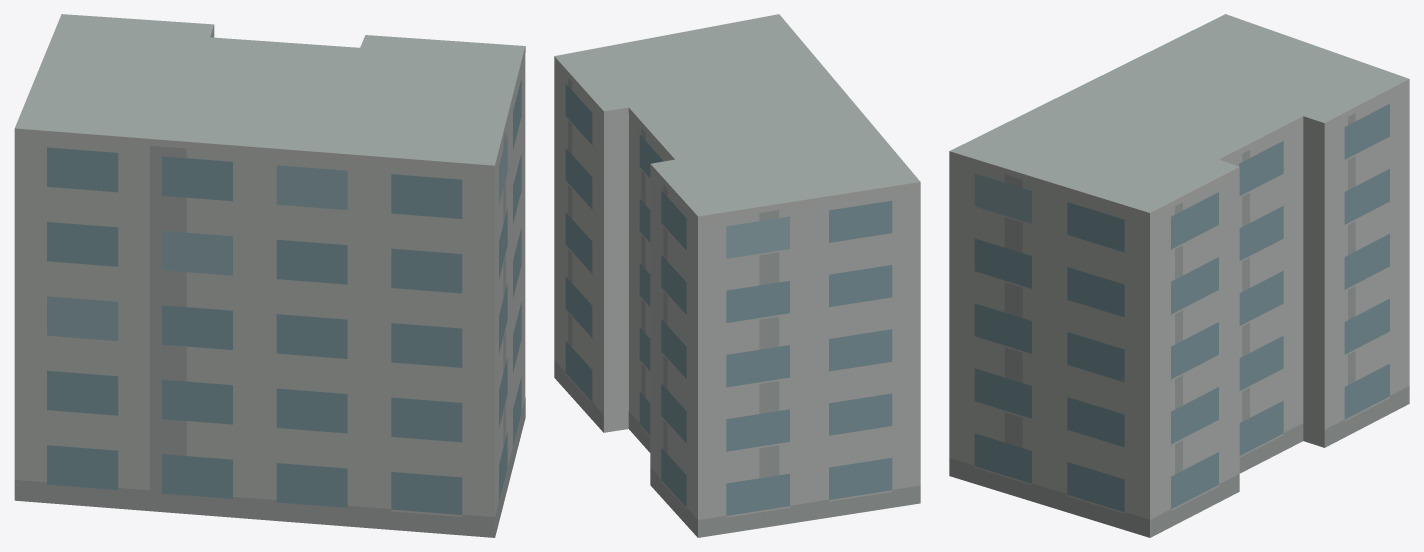
Rendered from survey-upis-32852809.glb.
The picture shows the model from 3 angles, left to right: view 1: azimuth 30°, elevation 25°; view 2: azimuth 150°, elevation 25°; view 3: azimuth 270°, elevation 25°; orthographic projection. The views are drawn at different scales.
Visible parts, largest first — view 1: survey-upis-32852809.tmp; view 2: survey-upis-32852809.tmp; view 3: survey-upis-32852809.tmp.
Boxes of the visible parts, x1,y1,x2,y2 form: survey-upis-32852809.tmp: (14, 14, 525, 537); survey-upis-32852809.tmp: (554, 14, 920, 537); survey-upis-32852809.tmp: (949, 14, 1409, 537).
Size of the model in its own units: 17.36 by 13.2 by 16.96.
